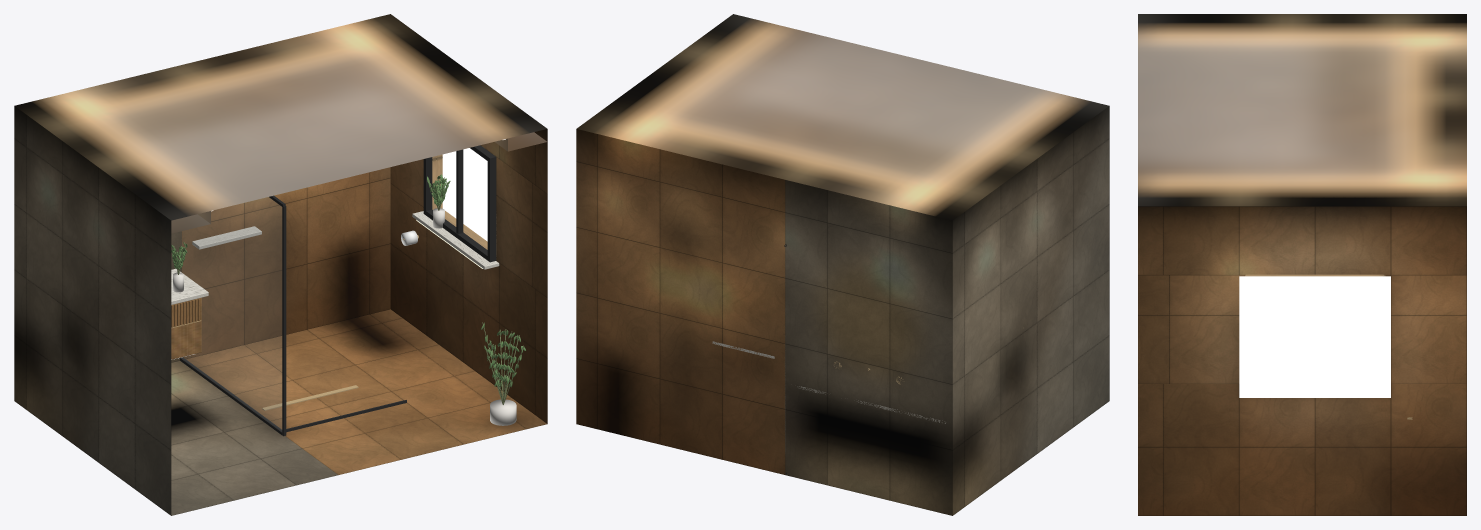
Rendered from bath_v4.glb.
3 renders of one model, left to right at view 1: azimuth 30°, elevation 25°; view 2: azimuth 150°, elevation 25°; view 3: azimuth 270°, elevation 25°, orthographic. The views are drawn at different scales.
Visible parts, largest first — view 1: Shell_Ceiling, Shell_Left Wall, Shell_Floor Wet, Shell_Back Wet, Shell_Right Below, Glass Partition, Shell_Floor Vanity, Shell_Right Front, Window Frame, Window Sky, Floor Plant, Shell_Right Above (+9 smaller); view 2: Shell_Back Wet, Shell_Ceiling, Shell_Back Vanity, Shell_Left Wall; view 3: Shell_Ceiling, Shell_Right Below, Shell_Right Above, Window Sky, Shell_Right Front, Shell_Right Back, Reveal Top.
Part boxes in pixels (x1,y1,x2,y2): Shell_Ceiling: (14, 14, 547, 220); Shell_Left Wall: (14, 106, 171, 515); Shell_Floor Wet: (186, 309, 547, 474); Shell_Back Wet: (181, 167, 390, 358); Shell_Right Below: (390, 184, 547, 423); Glass Partition: (181, 197, 281, 430); Shell_Floor Vanity: (171, 361, 338, 515); Shell_Right Front: (496, 157, 547, 297); Window Frame: (423, 145, 496, 262); Window Sky: (442, 148, 487, 241); Floor Plant: (481, 322, 525, 425); Shell_Right Above: (480, 129, 547, 194); Shell_Back Wet: (576, 129, 785, 474); Shell_Ceiling: (576, 14, 1109, 220); Shell_Back Vanity: (785, 180, 952, 515); Shell_Left Wall: (952, 106, 1109, 515); Shell_Ceiling: (1138, 14, 1466, 206); Shell_Right Below: (1138, 384, 1466, 515); Shell_Right Above: (1138, 206, 1466, 275); Window Sky: (1239, 276, 1390, 397); Shell_Right Front: (1138, 275, 1244, 383); Shell_Right Back: (1385, 275, 1466, 383); Reveal Top: (1245, 274, 1384, 276).
Bounding box in the file's own units: 3.75 × 2.7 × 2.6.
Materials: 19 (5 with a texture image).
